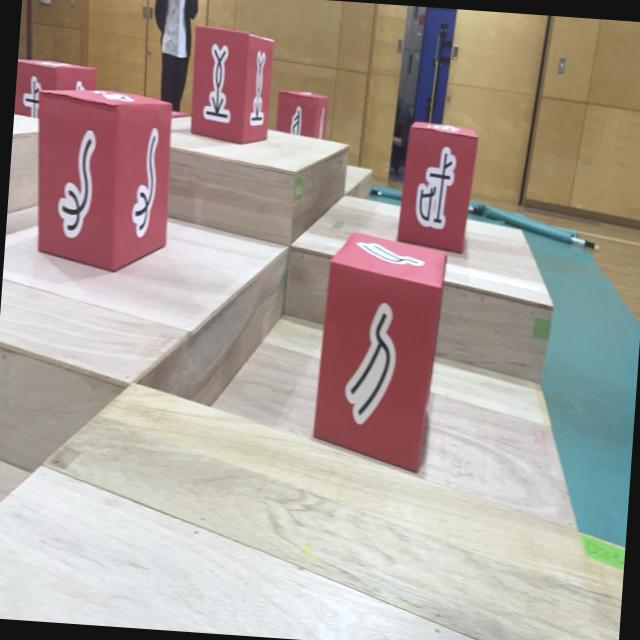10: (342, 299, 401, 427), (355, 238, 426, 268)
11: (288, 106, 302, 137)
13: (55, 123, 98, 240), (128, 124, 160, 239)
5: (413, 144, 456, 230)
7: (202, 42, 235, 124), (248, 50, 268, 126)
9: (20, 72, 42, 116)
fighter: (310, 228, 448, 475), (24, 85, 176, 277), (396, 119, 479, 253), (187, 23, 275, 146), (14, 57, 97, 122), (274, 88, 330, 140)
